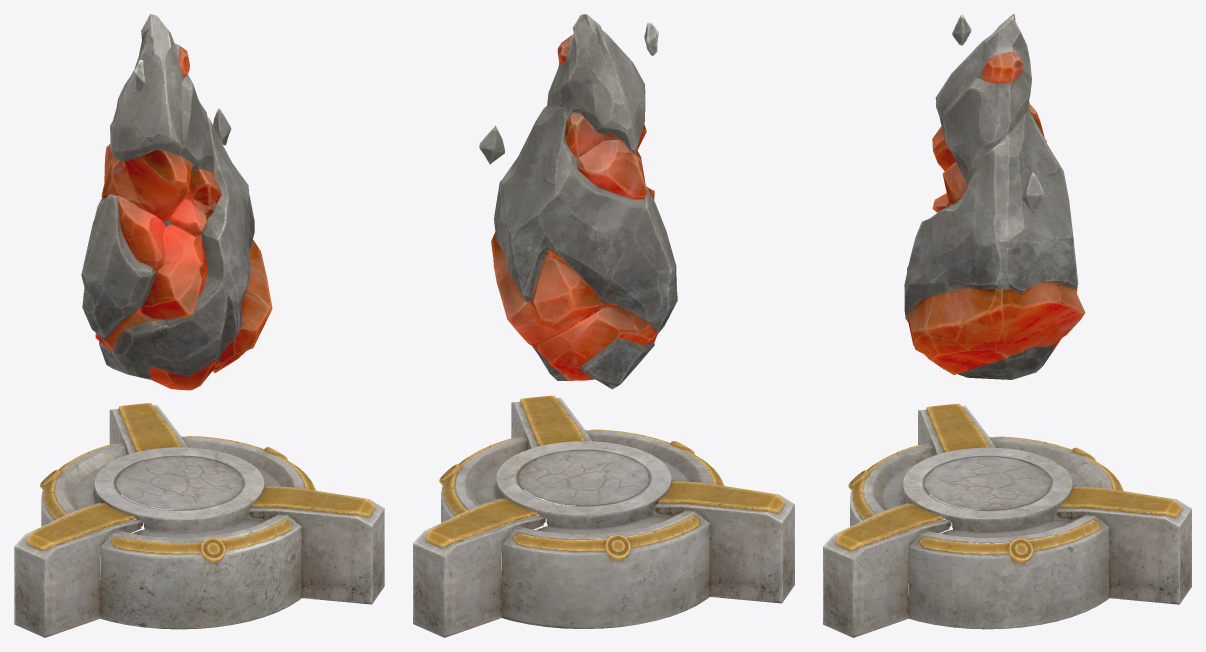
The picture shows the model from 3 angles, left to right: view 1: azimuth 30°, elevation 25°; view 2: azimuth 150°, elevation 25°; view 3: azimuth 270°, elevation 25°; orthographic projection. The views are drawn at different scales.
Parts seen in each view (by area): view 1: SM_Elemental_Pillar_01v2_LOD0; view 2: SM_Elemental_Pillar_01v2_LOD0; view 3: SM_Elemental_Pillar_01v2_LOD0.
Part boxes in pixels (x1=…): SM_Elemental_Pillar_01v2_LOD0: x1=14, y1=14, x2=384, y2=637; SM_Elemental_Pillar_01v2_LOD0: x1=413, y1=14, x2=794, y2=637; SM_Elemental_Pillar_01v2_LOD0: x1=823, y1=14, x2=1191, y2=637.
Size of the model in its own units: 3.34 by 5.56 by 3.39.
Materials: 1 (1 with a texture image).
